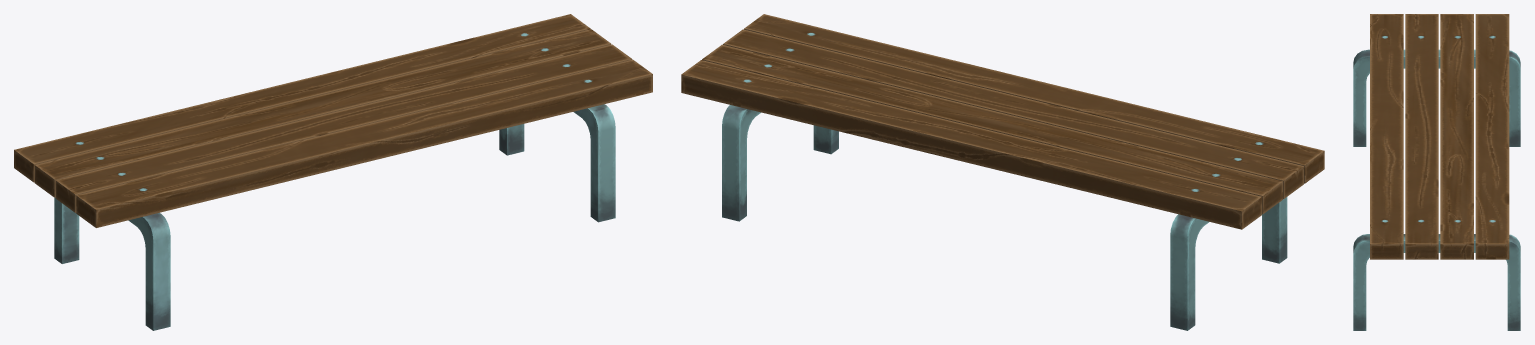
Rendered from simple_bench.gltf.
The picture shows the model from 3 angles, left to right: view 1: azimuth 30°, elevation 25°; view 2: azimuth 150°, elevation 25°; view 3: azimuth 270°, elevation 25°; orthographic projection. The views are drawn at different scales.
Visible parts, largest first — view 1: Beam 4, Beam 3, Beam 2, Beam 1, Legs; view 2: Beam 1, Beam 2, Beam 4, Beam 3, Legs; view 3: Beam 1, Beam 4, Beam 3, Beam 2, Legs.
Part boxes in pixels (left/top/right/bottom): Beam 4: left=76, top=59, right=652, bottom=227; Beam 3: left=55, top=44, right=632, bottom=212; Beam 2: left=34, top=29, right=611, bottom=197; Beam 1: left=14, top=14, right=590, bottom=182; Legs: left=54, top=104, right=615, bottom=330; Beam 1: left=681, top=60, right=1261, bottom=229; Beam 2: left=702, top=44, right=1282, bottom=214; Beam 4: left=744, top=14, right=1324, bottom=183; Beam 3: left=723, top=29, right=1303, bottom=198; Legs: left=722, top=105, right=1287, bottom=330; Beam 1: left=1475, top=14, right=1509, bottom=259; Beam 4: left=1370, top=14, right=1403, bottom=259; Beam 3: left=1405, top=14, right=1438, bottom=259; Beam 2: left=1440, top=14, right=1473, bottom=259; Legs: left=1353, top=49, right=1520, bottom=330.
Size of the model in its own units: 2 by 0.43 by 0.6151.
Materials: 1 (1 with a texture image).
